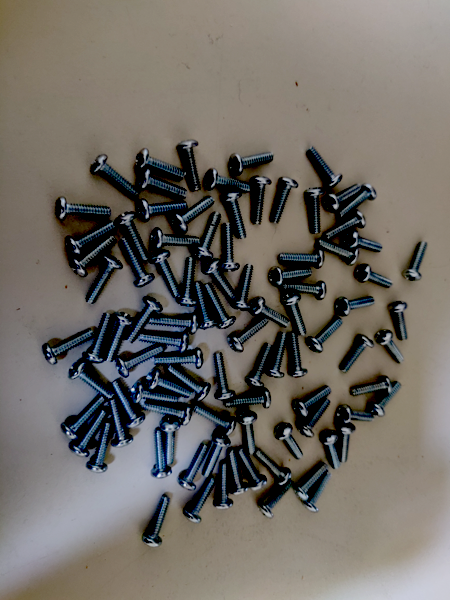shortscrew: (90, 154, 140, 198), (61, 394, 106, 442), (68, 234, 117, 277), (84, 254, 123, 305), (68, 409, 108, 458), (42, 330, 95, 365), (124, 297, 163, 344), (115, 211, 149, 264), (65, 222, 116, 257), (120, 237, 155, 288), (111, 379, 146, 429), (68, 362, 115, 399), (135, 148, 187, 181), (167, 364, 211, 402), (115, 344, 164, 378), (183, 476, 217, 524), (307, 146, 344, 189), (103, 313, 135, 362), (136, 169, 188, 199), (336, 183, 378, 220), (227, 317, 269, 354), (142, 495, 171, 548), (83, 313, 113, 364), (178, 443, 209, 492), (204, 284, 237, 330), (201, 258, 237, 300), (192, 211, 222, 260), (292, 463, 329, 502), (193, 404, 237, 436), (254, 449, 292, 486), (271, 177, 300, 225), (306, 317, 343, 354), (258, 480, 293, 519), (247, 297, 291, 328), (340, 333, 374, 373), (55, 197, 111, 221), (245, 343, 274, 389), (298, 398, 331, 438), (236, 448, 267, 490), (325, 210, 367, 241), (87, 423, 113, 473), (204, 169, 252, 196), (201, 435, 231, 478), (147, 370, 193, 398), (293, 386, 333, 418), (176, 140, 201, 191), (303, 471, 333, 513), (224, 190, 249, 240), (110, 398, 134, 449), (317, 238, 360, 266), (323, 183, 363, 213), (137, 199, 188, 222), (195, 282, 219, 330), (218, 222, 241, 272), (274, 423, 304, 461), (250, 176, 273, 225), (151, 227, 200, 250), (369, 382, 401, 417), (402, 241, 429, 282), (155, 348, 204, 370), (281, 293, 306, 336), (138, 332, 189, 353), (265, 333, 288, 379), (228, 153, 274, 176), (130, 383, 178, 405), (151, 429, 172, 479), (148, 314, 198, 335), (232, 264, 254, 311), (375, 330, 406, 363), (304, 188, 326, 234), (214, 353, 235, 401), (213, 462, 234, 510), (354, 264, 393, 289), (236, 411, 258, 455), (288, 333, 309, 378), (160, 418, 180, 465), (344, 230, 383, 254), (225, 389, 271, 409), (228, 450, 248, 496), (350, 376, 393, 397), (269, 266, 312, 287), (319, 430, 341, 470), (335, 296, 376, 317), (388, 302, 410, 341), (282, 282, 327, 301), (279, 251, 326, 269), (336, 425, 357, 463), (336, 405, 375, 424)
